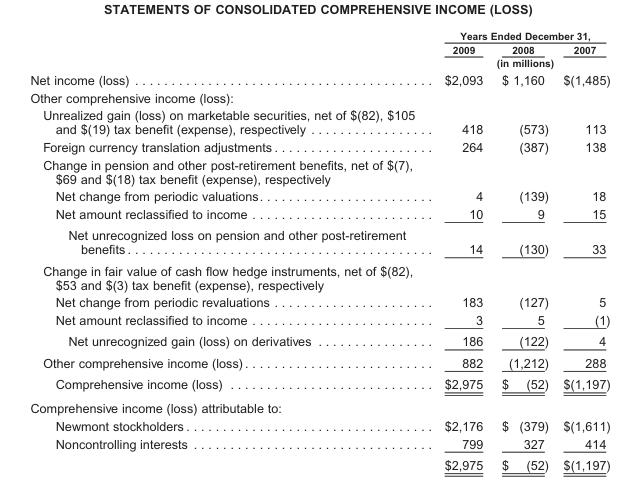table: (29, 29, 609, 471)
table column: (29, 29, 428, 471), (491, 29, 555, 471), (428, 29, 491, 471), (555, 29, 609, 471)
table column header: (29, 29, 609, 70)
table projected row header: (29, 259, 609, 292), (29, 155, 609, 186), (29, 395, 609, 416), (29, 88, 609, 106)
table row: (29, 224, 609, 259), (29, 259, 609, 292), (29, 106, 609, 137), (29, 155, 609, 186), (29, 351, 609, 373), (29, 373, 609, 395), (29, 330, 609, 351), (29, 395, 609, 416), (29, 204, 609, 224), (29, 310, 609, 330), (29, 434, 609, 453), (29, 70, 609, 88), (29, 88, 609, 106), (29, 137, 609, 155), (29, 186, 609, 204), (29, 292, 609, 310), (29, 416, 609, 434), (29, 453, 609, 471), (29, 55, 609, 70), (29, 41, 609, 55), (29, 29, 609, 41)
table spanning cell: (428, 55, 609, 70), (428, 29, 609, 41)
